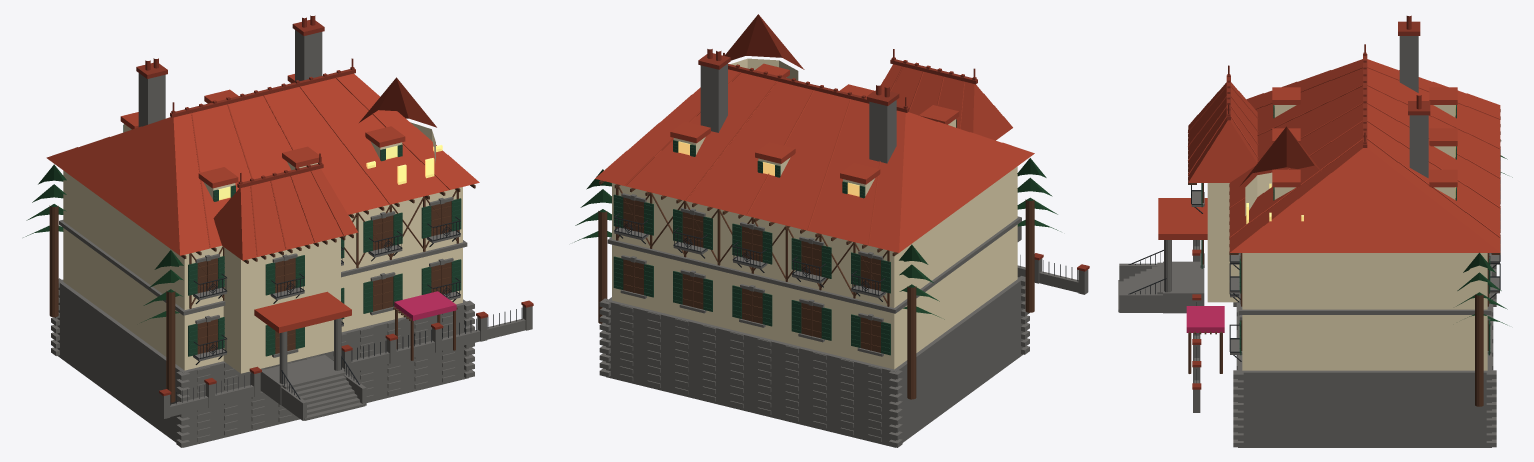
File: fv_thd_01_villa_14_normandy.glb
3 views of the same model, side by side, from view 1: azimuth 30°, elevation 25°; view 2: azimuth 150°, elevation 25°; view 3: azimuth 270°, elevation 25° (orthographic).
Visible parts, largest first — view 1: marseille_corrugated_roof_tiles, granite_foundation_and_stairs, stucco_facade_and_dormers, colombage_timber_and_eaves, pine_green_louvered_shutters, ridge_cresting_and_chimneys, wrought_iron_balconies_3d, pine_trees_and_garden_hedges, bougainvillea_pergola_clusters, warm_night_windows_ffb86c; view 2: marseille_corrugated_roof_tiles, granite_foundation_and_stairs, stucco_facade_and_dormers, colombage_timber_and_eaves, pine_green_louvered_shutters, ridge_cresting_and_chimneys, pine_trees_and_garden_hedges, wrought_iron_balconies_3d; view 3: marseille_corrugated_roof_tiles, stucco_facade_and_dormers, granite_foundation_and_stairs, colombage_timber_and_eaves, ridge_cresting_and_chimneys, bougainvillea_pergola_clusters, wrought_iron_balconies_3d, pine_trees_and_garden_hedges, pine_green_louvered_shutters.
Boxes of the visible parts, bbox=[...] form: marseille_corrugated_roof_tiles: bbox=[46, 73, 479, 333]; granite_foundation_and_stairs: bbox=[51, 30, 532, 447]; stucco_facade_and_dormers: bbox=[63, 122, 462, 373]; colombage_timber_and_eaves: bbox=[49, 184, 475, 402]; pine_green_louvered_shutters: bbox=[123, 124, 461, 356]; ridge_cresting_and_chimneys: bbox=[136, 15, 533, 396]; wrought_iron_balconies_3d: bbox=[170, 216, 522, 405]; pine_trees_and_garden_hedges: bbox=[23, 164, 183, 322]; bougainvillea_pergola_clusters: bbox=[394, 291, 456, 320]; warm_night_windows_ffb86c: bbox=[218, 145, 442, 200]; marseille_corrugated_roof_tiles: bbox=[595, 14, 1034, 252]; granite_foundation_and_stairs: bbox=[599, 63, 1088, 447]; stucco_facade_and_dormers: bbox=[612, 58, 1017, 369]; colombage_timber_and_eaves: bbox=[598, 180, 1034, 399]; pine_green_louvered_shutters: bbox=[613, 119, 956, 355]; ridge_cresting_and_chimneys: bbox=[698, 49, 1089, 271]; pine_trees_and_garden_hedges: bbox=[574, 158, 1060, 319]; wrought_iron_balconies_3d: bbox=[614, 213, 1077, 301]; marseille_corrugated_roof_tiles: bbox=[1158, 59, 1500, 252]; stucco_facade_and_dormers: bbox=[1207, 105, 1487, 370]; granite_foundation_and_stairs: bbox=[1118, 36, 1499, 447]; colombage_timber_and_eaves: bbox=[1188, 109, 1500, 406]; ridge_cresting_and_chimneys: bbox=[1192, 15, 1430, 389]; bougainvillea_pergola_clusters: bbox=[1186, 306, 1224, 332]; wrought_iron_balconies_3d: bbox=[1128, 150, 1500, 382]; pine_trees_and_garden_hedges: bbox=[1456, 140, 1512, 325]; pine_green_louvered_shutters: bbox=[1201, 105, 1490, 355].
Bounding box in the file's own units: 24.84 × 19.93 × 22.91.
